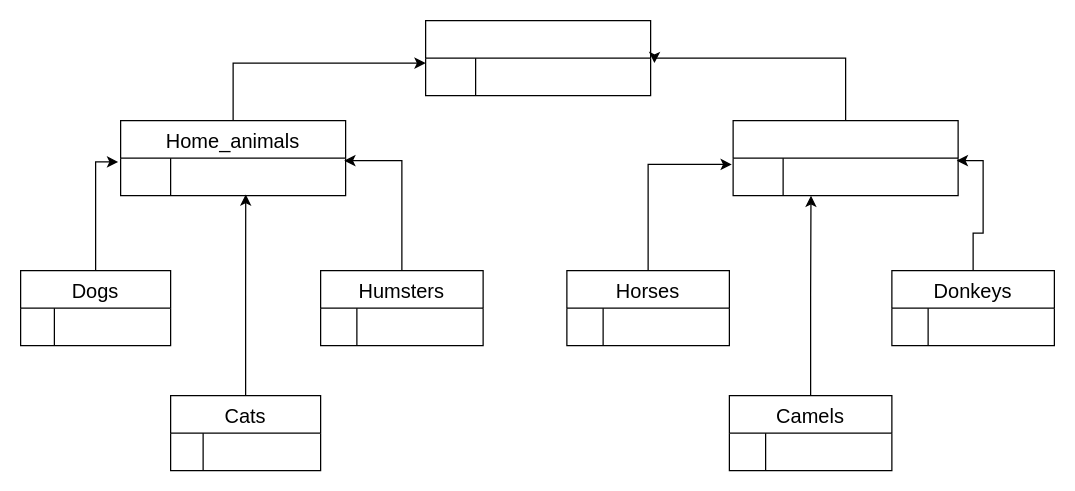
The diagram is 1075 pixels wide and 491 high, and some of its shapes have lost their labels. Here are the shapes that lost their labels. From the top down, the centre of each, then its label:
At (x=537, y=57): "Animals".
At (x=845, y=157): "Pack_animals".
